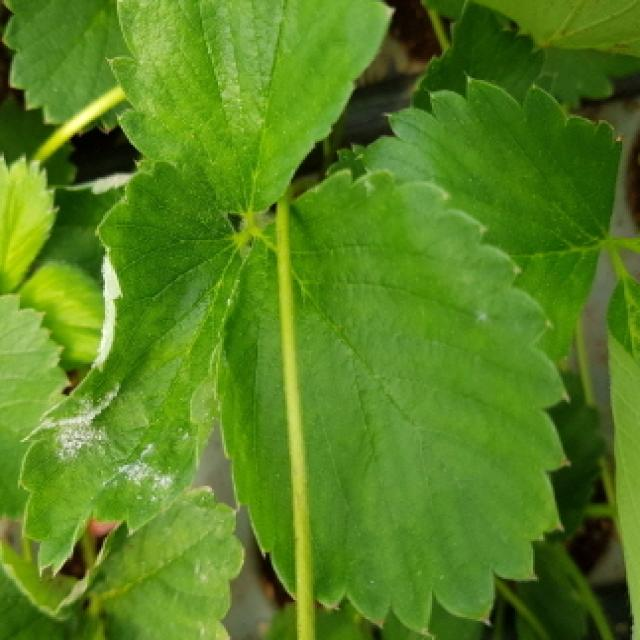Powdery Mildew Leaf: (17, 160, 246, 581)
